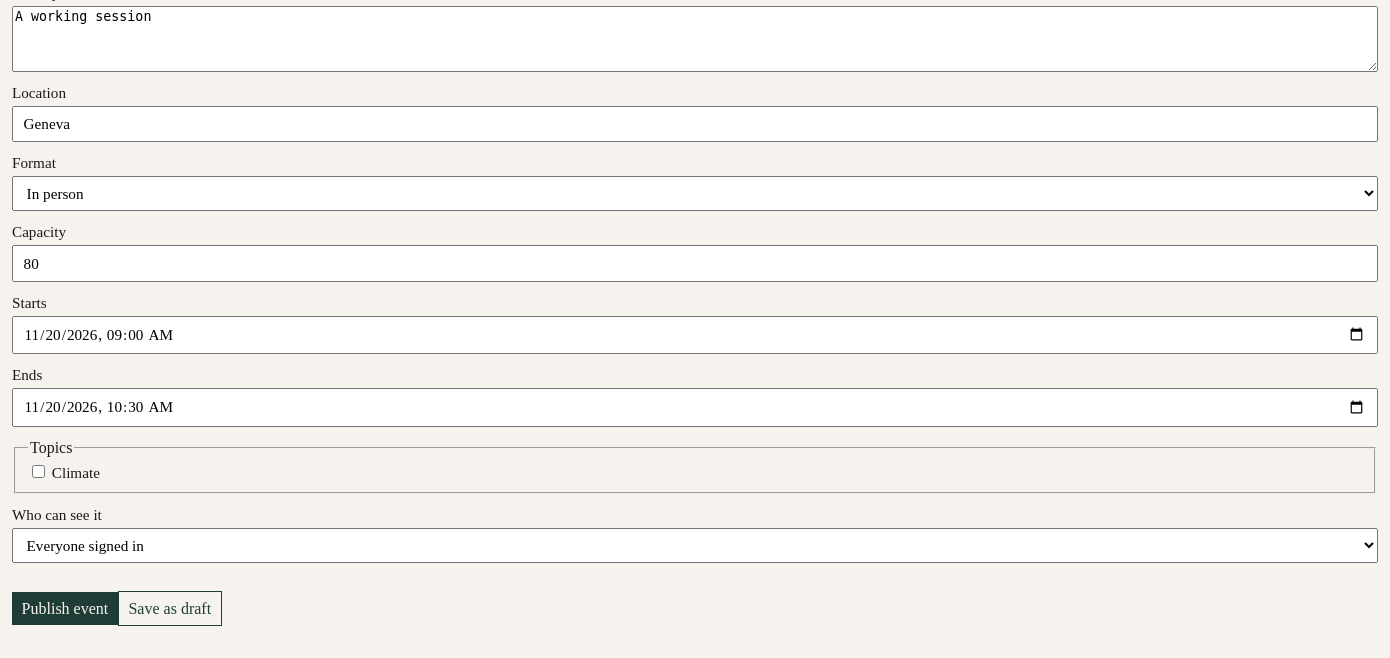
Test: EventCreateComponent › disables the button and shows Creating... until the request fails, then shows the field error
(page scrolled)
Click the button "Publish event".
click(65, 609)  # box left=12, top=592, right=118, bottom=625
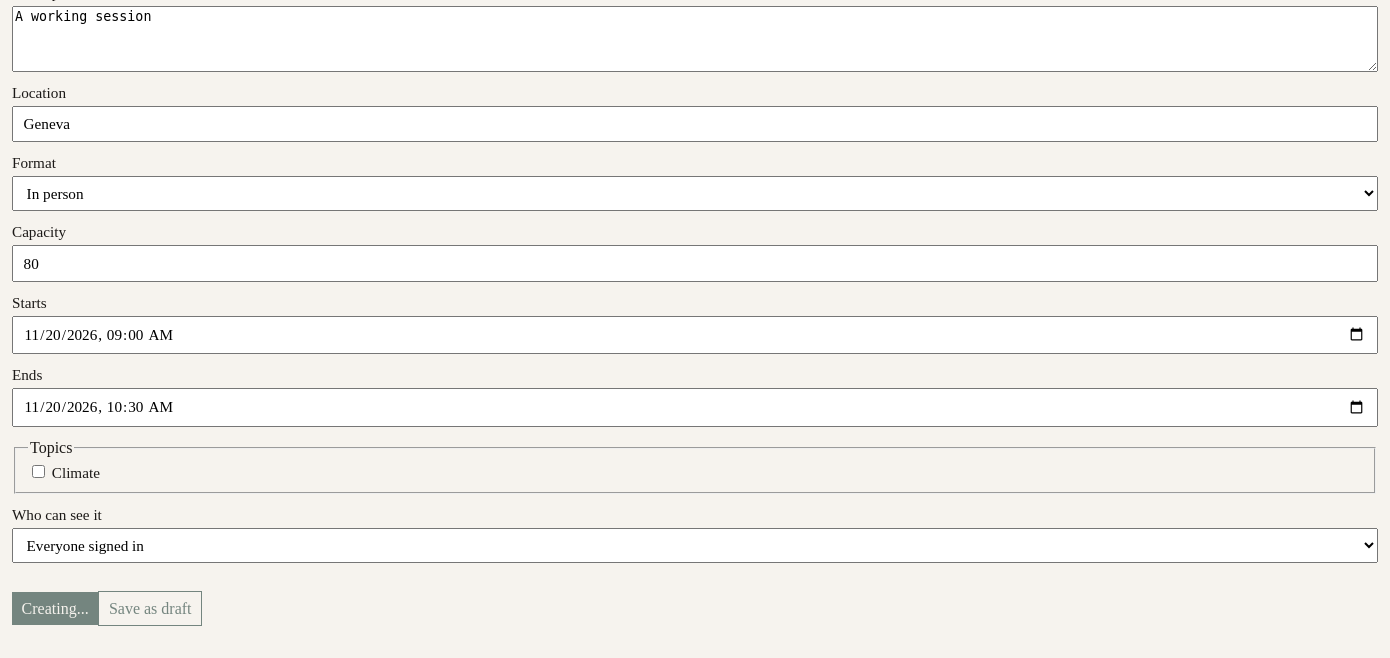
Check: the button "Creating..." is disabled
Click the button "Creating...".
click(55, 609)  # box left=12, top=592, right=98, bottom=625
(page scrolled)
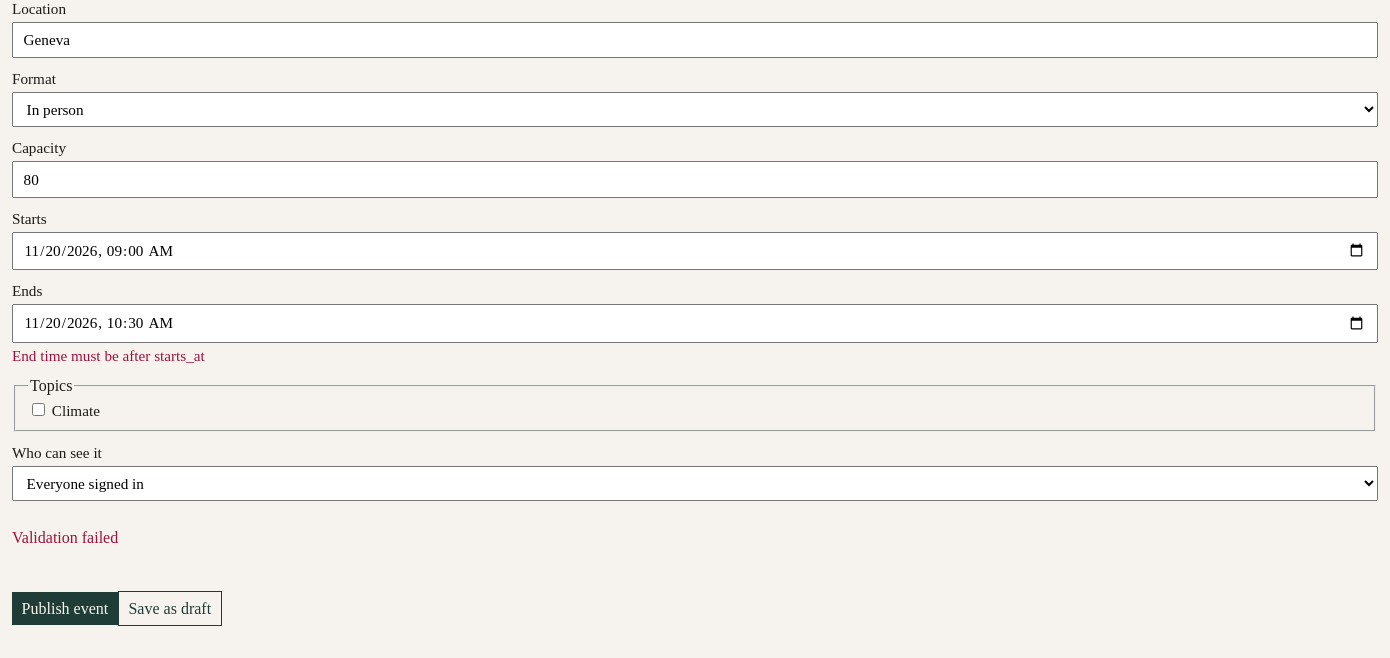
Check: the button "Publish event" is enabled, box left=12, top=592, right=118, bottom=625
Check: the text "End time must be after starts_at" is shown, box left=12, top=346, right=205, bottom=364
